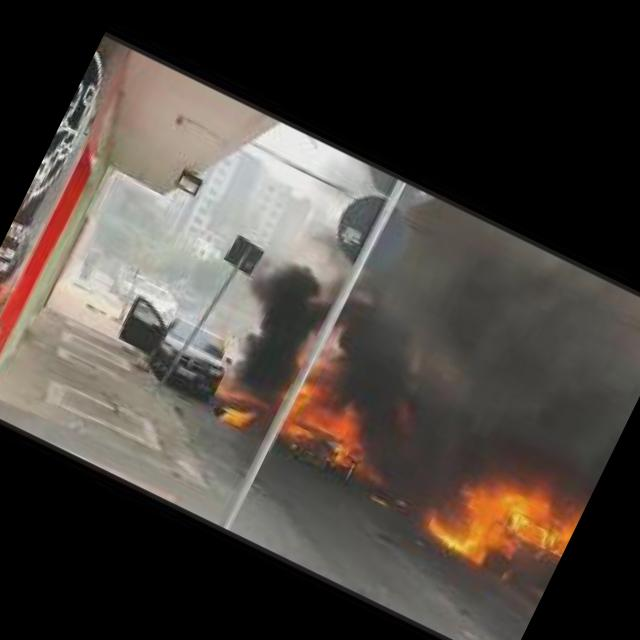fire: (412, 440, 586, 594), (272, 335, 396, 469), (218, 398, 255, 434)
smoke: (295, 190, 640, 551), (210, 230, 360, 412)
